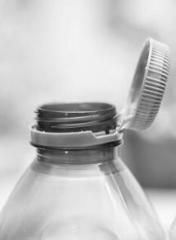plastic: (1, 37, 176, 239)
